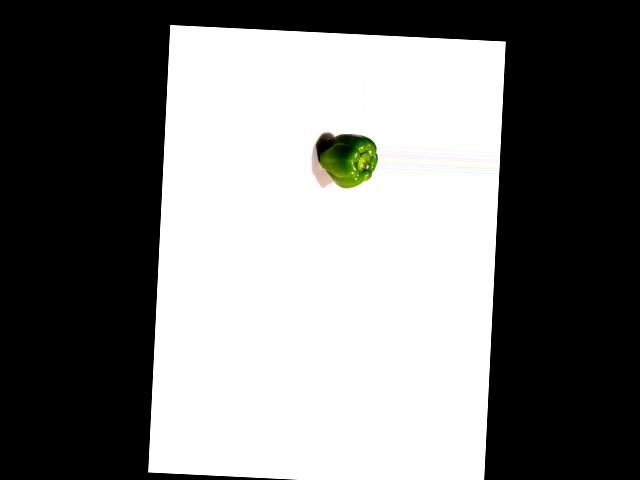bell_pepper: (314, 131, 378, 191)
